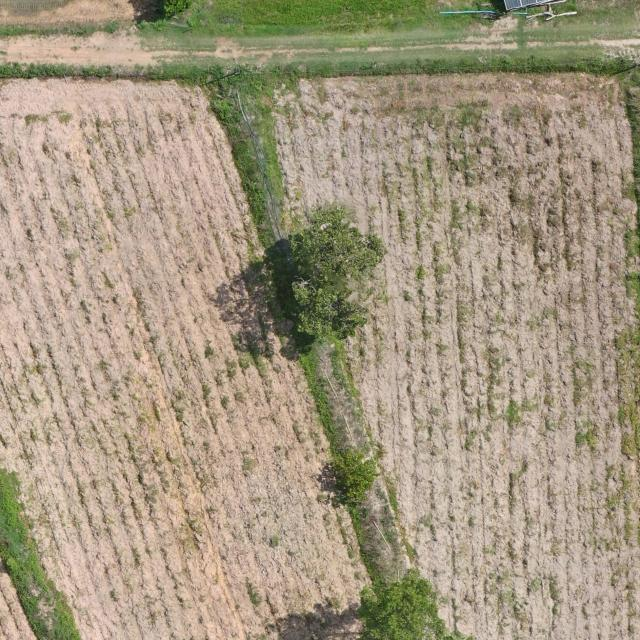Tree: (289, 205, 390, 343), (357, 567, 480, 640), (325, 449, 377, 506), (156, 0, 194, 19)
